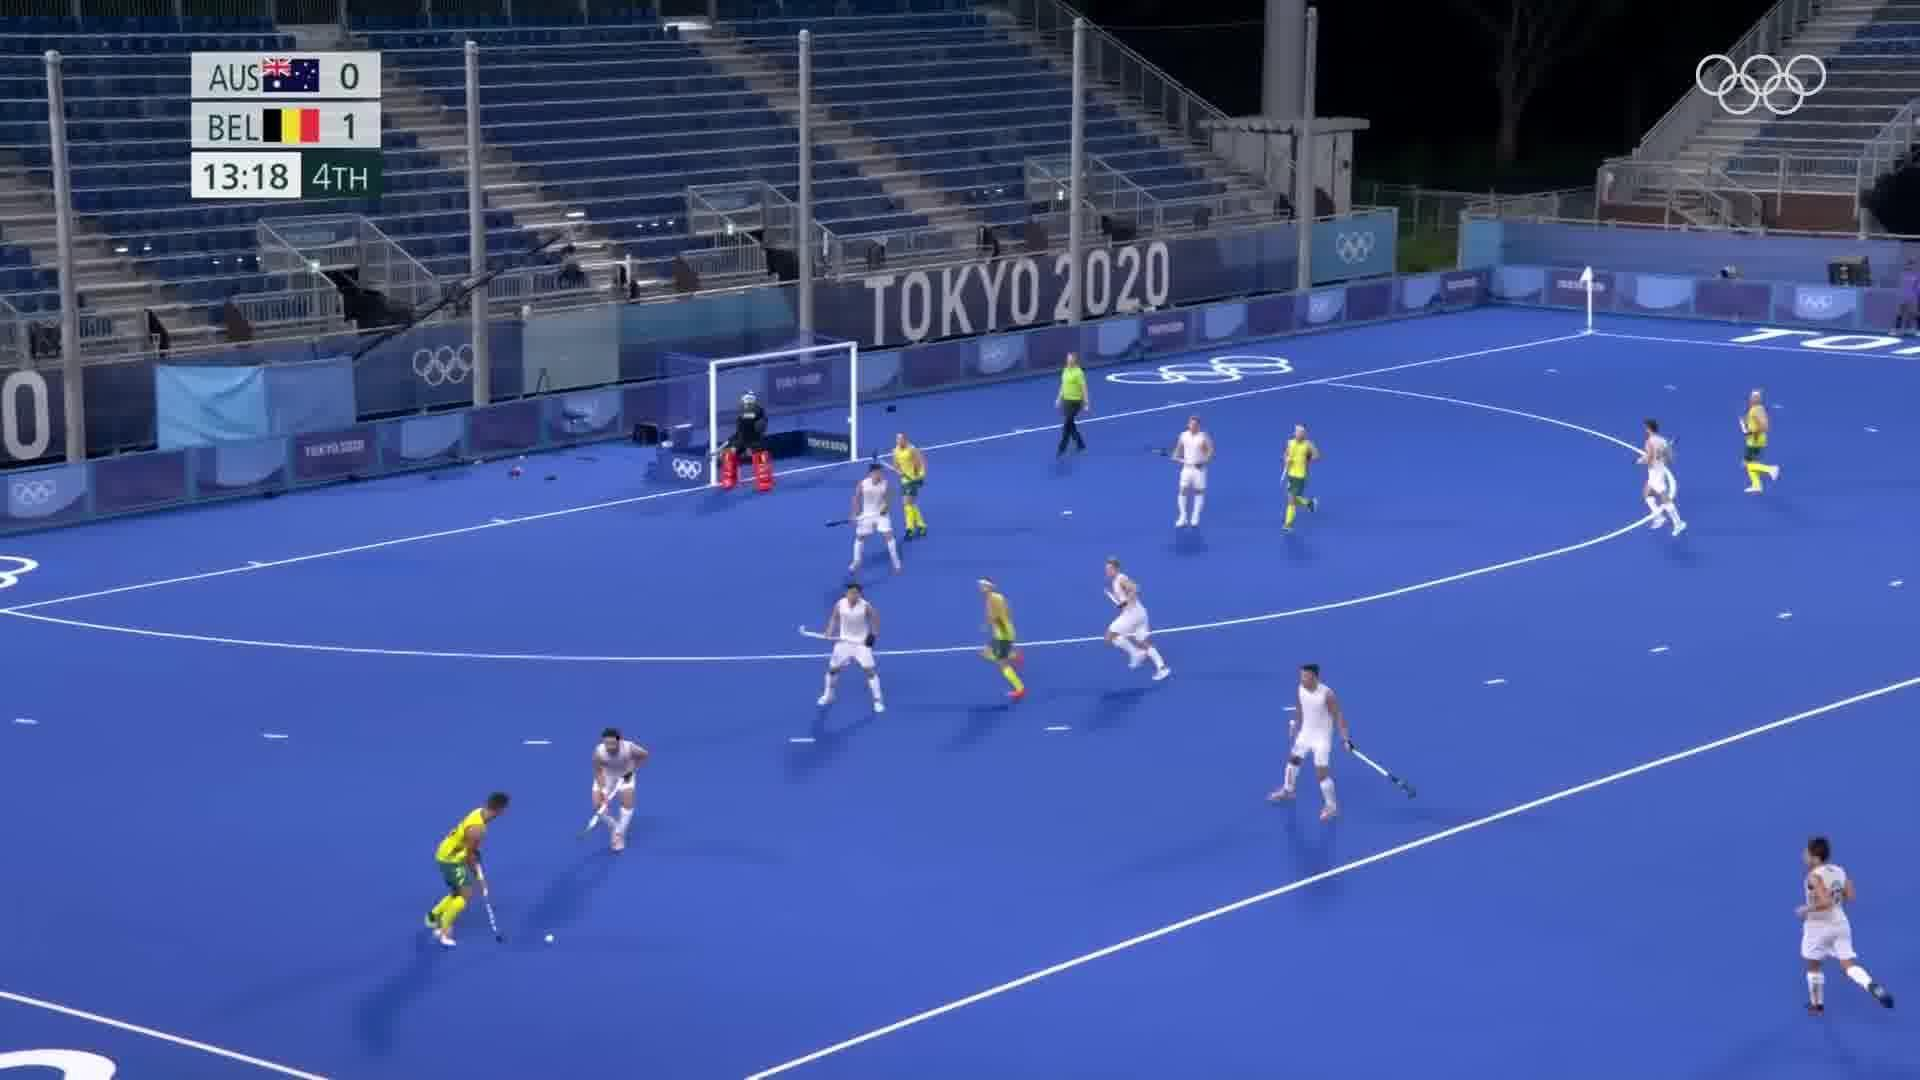ball: (539, 926, 560, 953)
